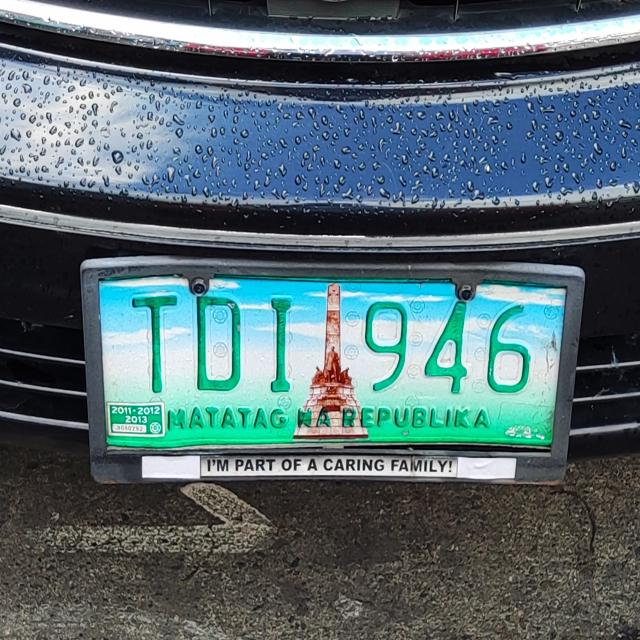plate: (71, 240, 595, 502)
